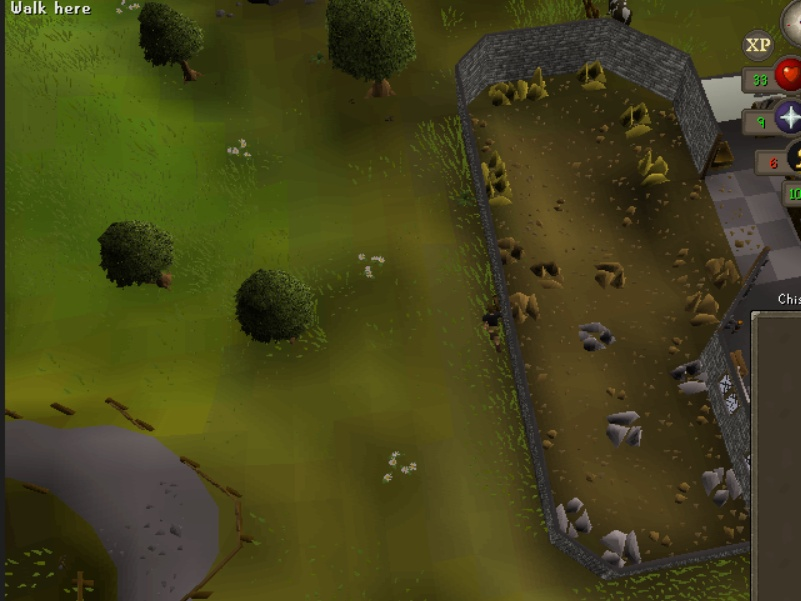clay: (506, 288, 549, 327), (530, 252, 573, 291), (488, 231, 531, 270), (590, 252, 633, 291), (700, 248, 743, 287), (681, 287, 724, 326)
gold: (515, 63, 550, 104), (619, 98, 654, 139), (575, 51, 610, 92), (636, 146, 671, 187), (483, 178, 517, 209), (485, 75, 519, 106), (476, 147, 510, 178)
silver: (600, 405, 651, 450), (595, 523, 646, 568), (549, 491, 600, 536), (571, 314, 622, 359), (697, 461, 748, 506), (668, 355, 712, 396)
